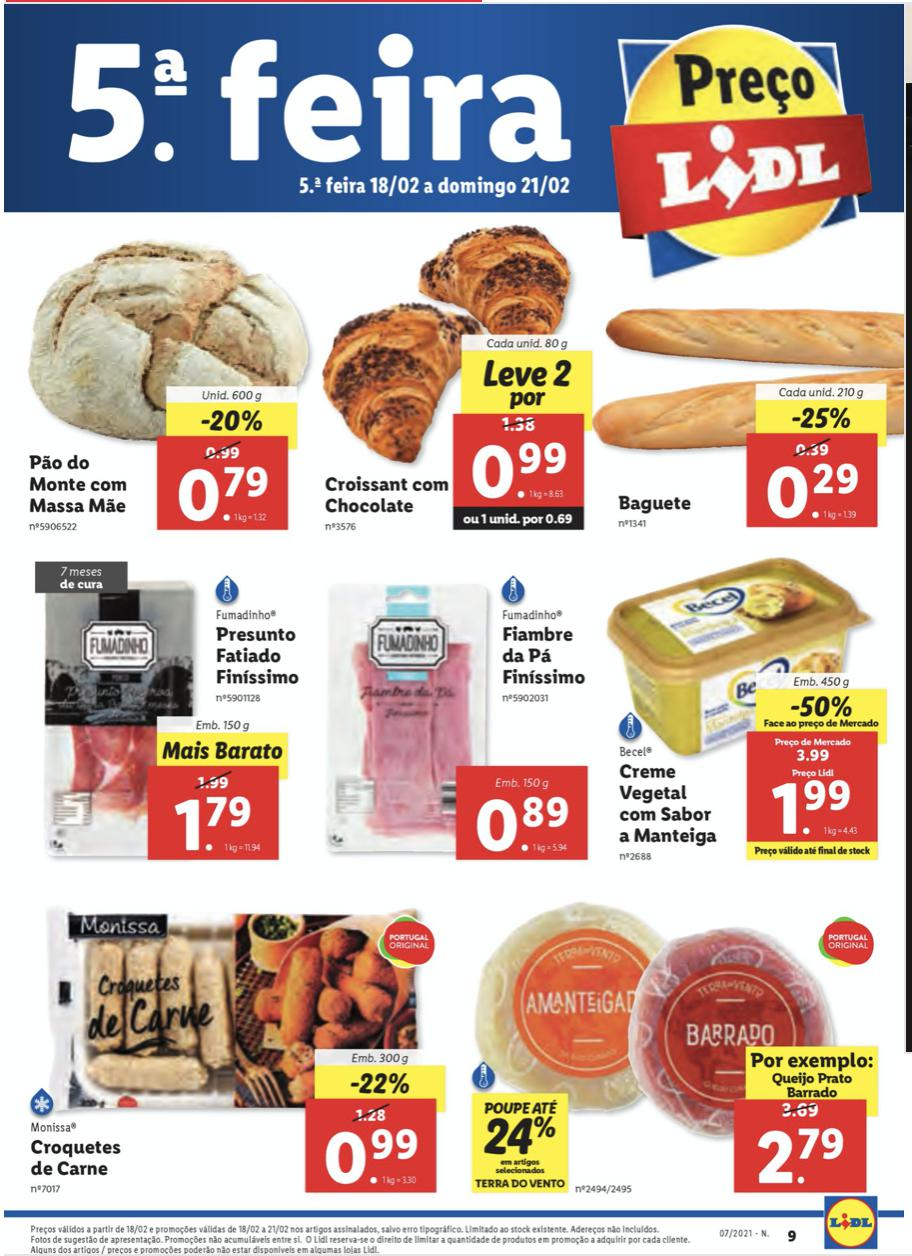name: (609, 761, 721, 850), (23, 446, 138, 525), (496, 619, 593, 693), (213, 624, 304, 691), (321, 472, 449, 519), (26, 1136, 124, 1180), (615, 488, 696, 519)
price: (471, 788, 582, 858), (760, 457, 865, 529), (326, 1124, 431, 1191), (166, 789, 265, 860), (463, 436, 571, 501), (770, 766, 863, 841), (176, 463, 277, 530), (754, 1125, 848, 1193)
product: (15, 893, 459, 1202), (457, 899, 895, 1196), (602, 543, 898, 871), (24, 558, 310, 889), (12, 224, 309, 541), (309, 219, 588, 541), (315, 566, 602, 871), (582, 274, 901, 535)
promotion: (481, 1114, 554, 1163), (196, 402, 268, 439), (346, 1066, 415, 1104), (788, 402, 857, 438), (788, 693, 857, 721)
